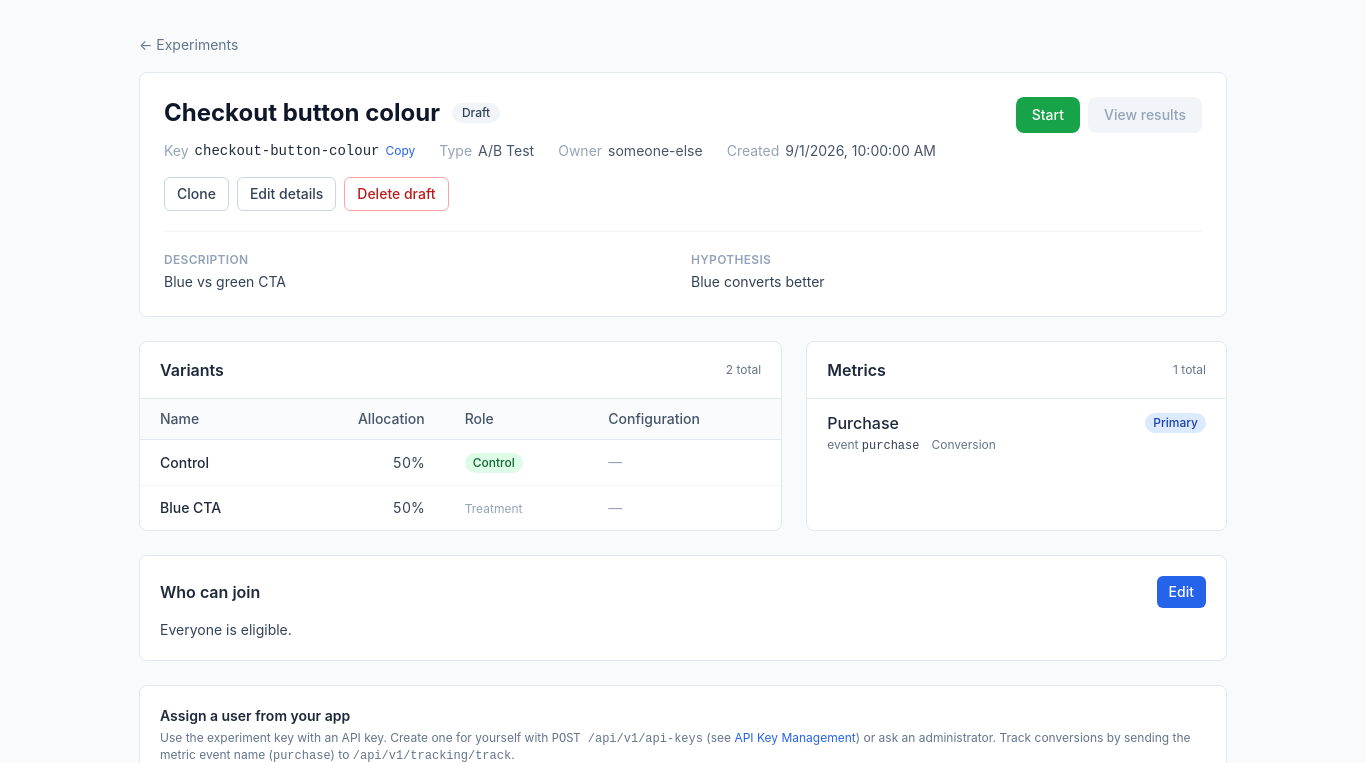
Test case: Edit details › changing the hypothesis only sends exactly that
Click the button with test id "experiment-edit-details" at point(287, 194), box [237,177,336,211]
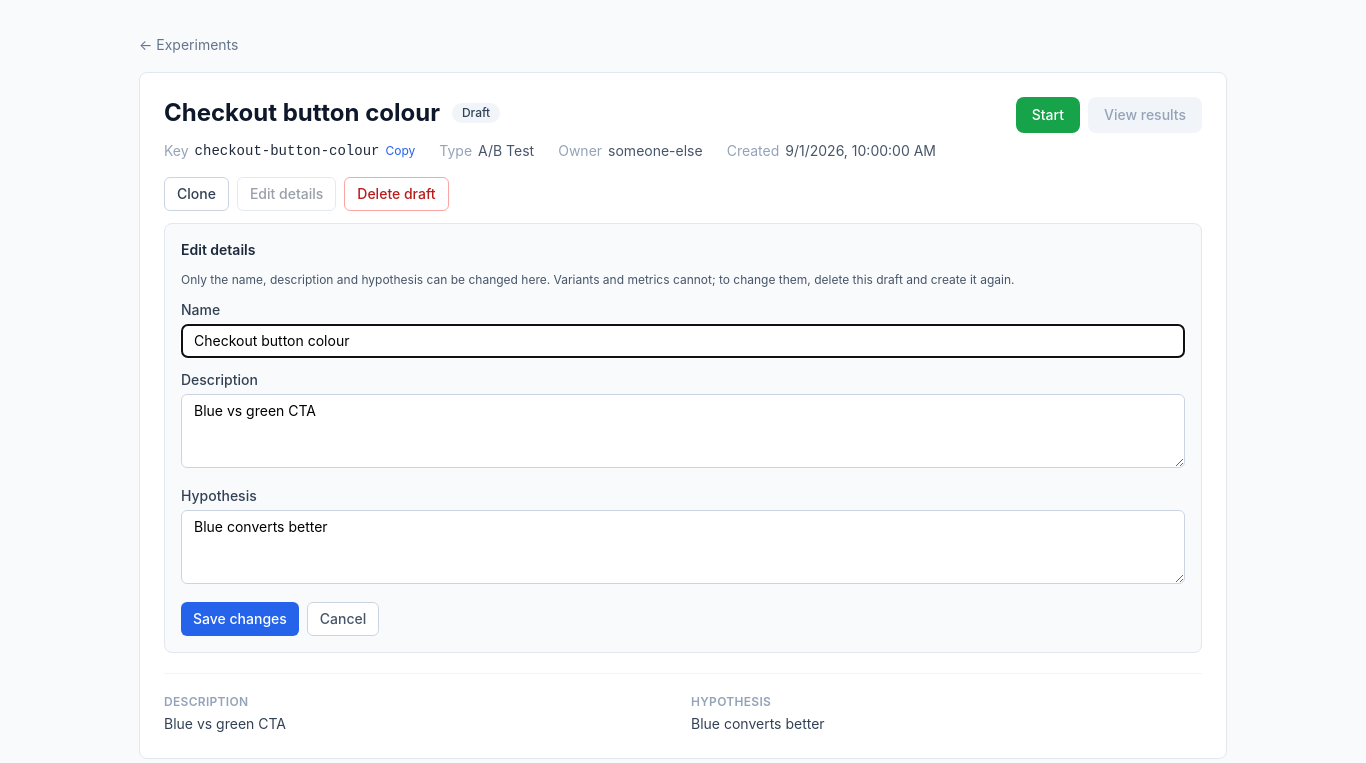
Replace the text in the text box with test id "manage-edit-hypothesis" with "Green wins" at point(683, 547), box [181,510,1185,584]
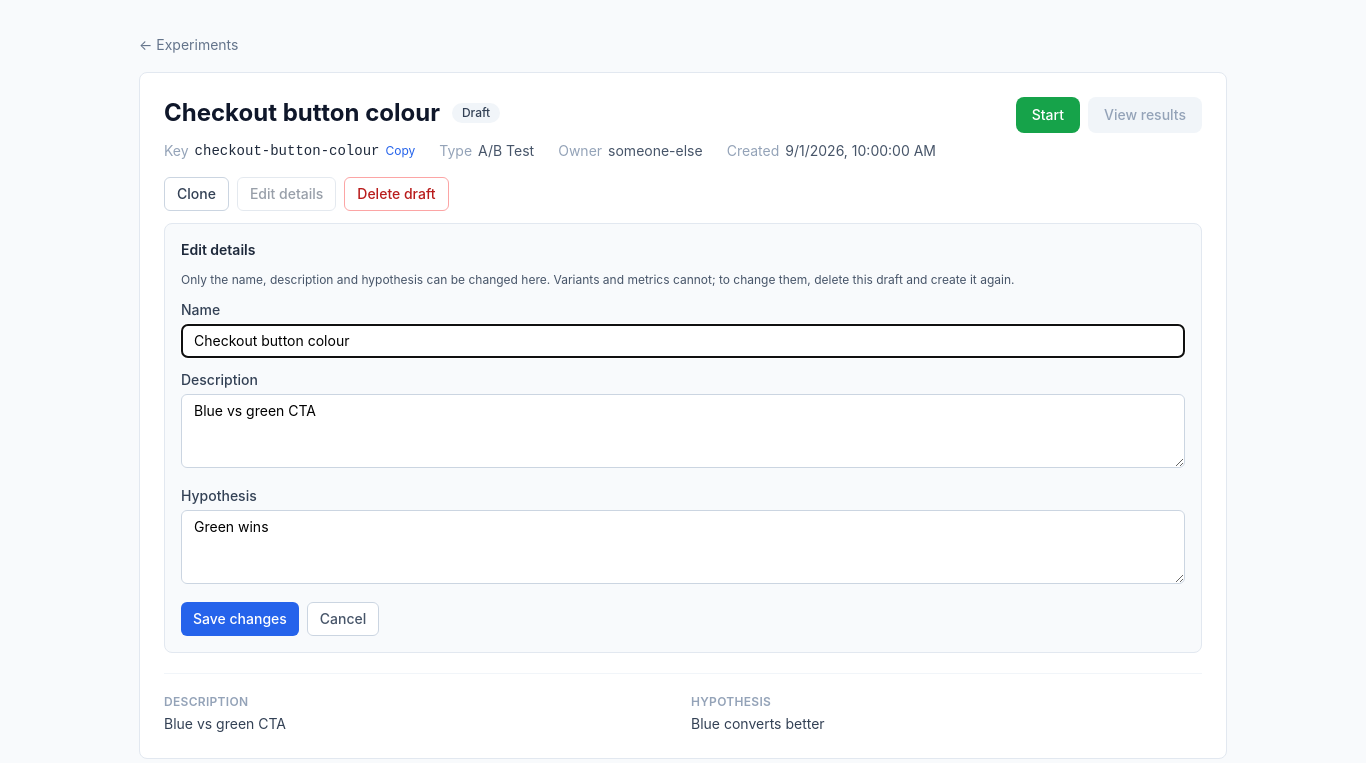
Click the button with test id "manage-edit-save" at point(240, 619), box [181,602,299,636]
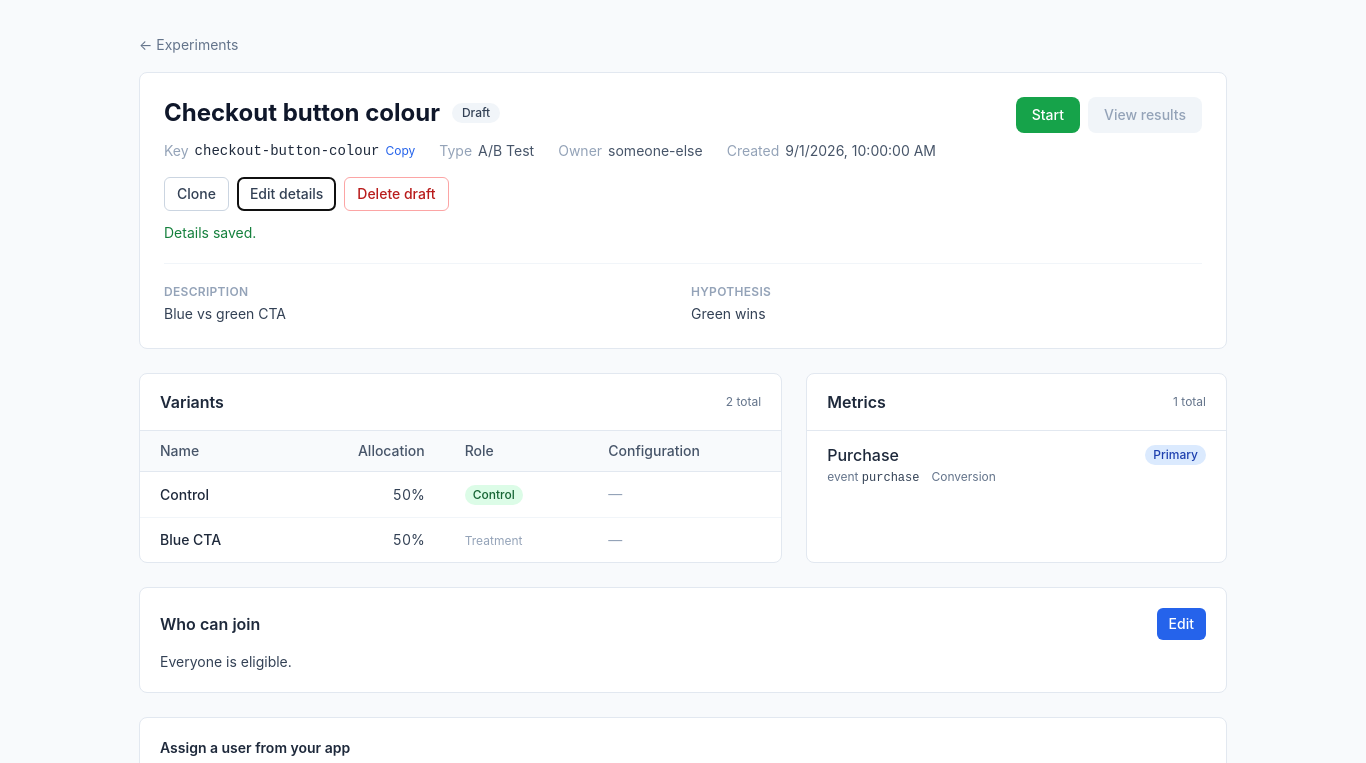
Result: the message "Details saved." is shown at [164,224,256,241]
